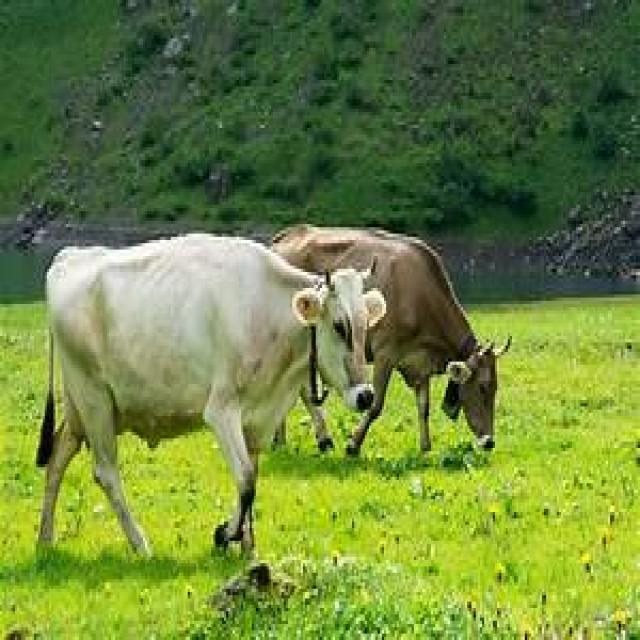cow: (38, 234, 385, 552), (274, 225, 500, 455)
